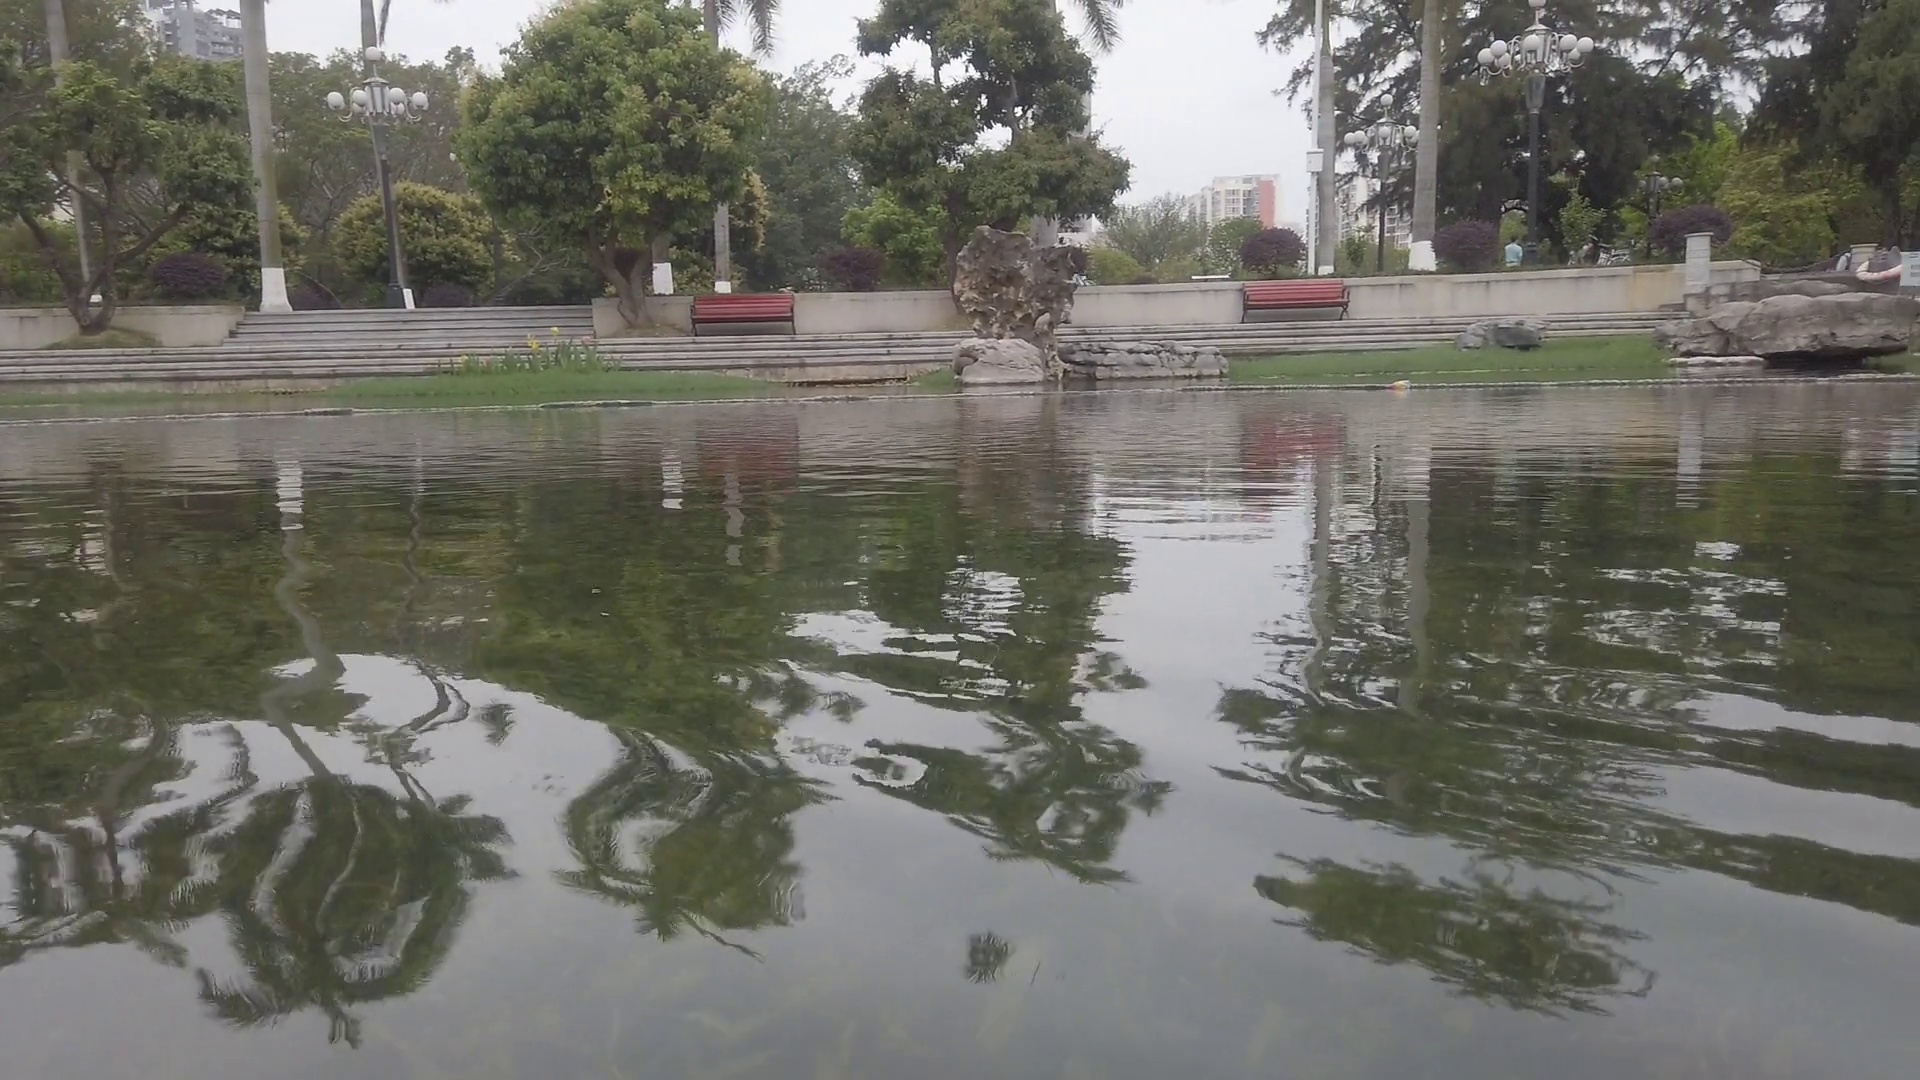bottle: (1387, 380, 1412, 389)
